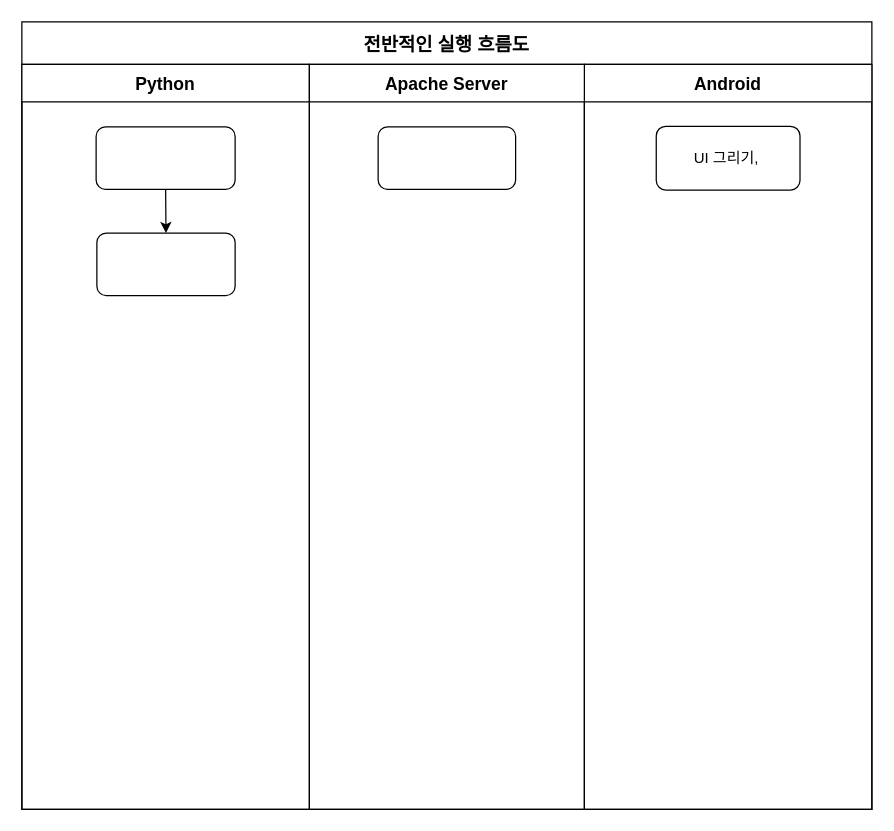
Image size: 894x831. Some labels were removed from this diagram. Here are the shapes that lost their labels. From the top down, the centre of each, then its label:
the point at 165,157: main.py 실행
the point at 446,157: 부팅 시 자동 실행, CGI 허용.
the point at 165,264: findIP() 실행, Bridge의 IP 주소 탐색.
